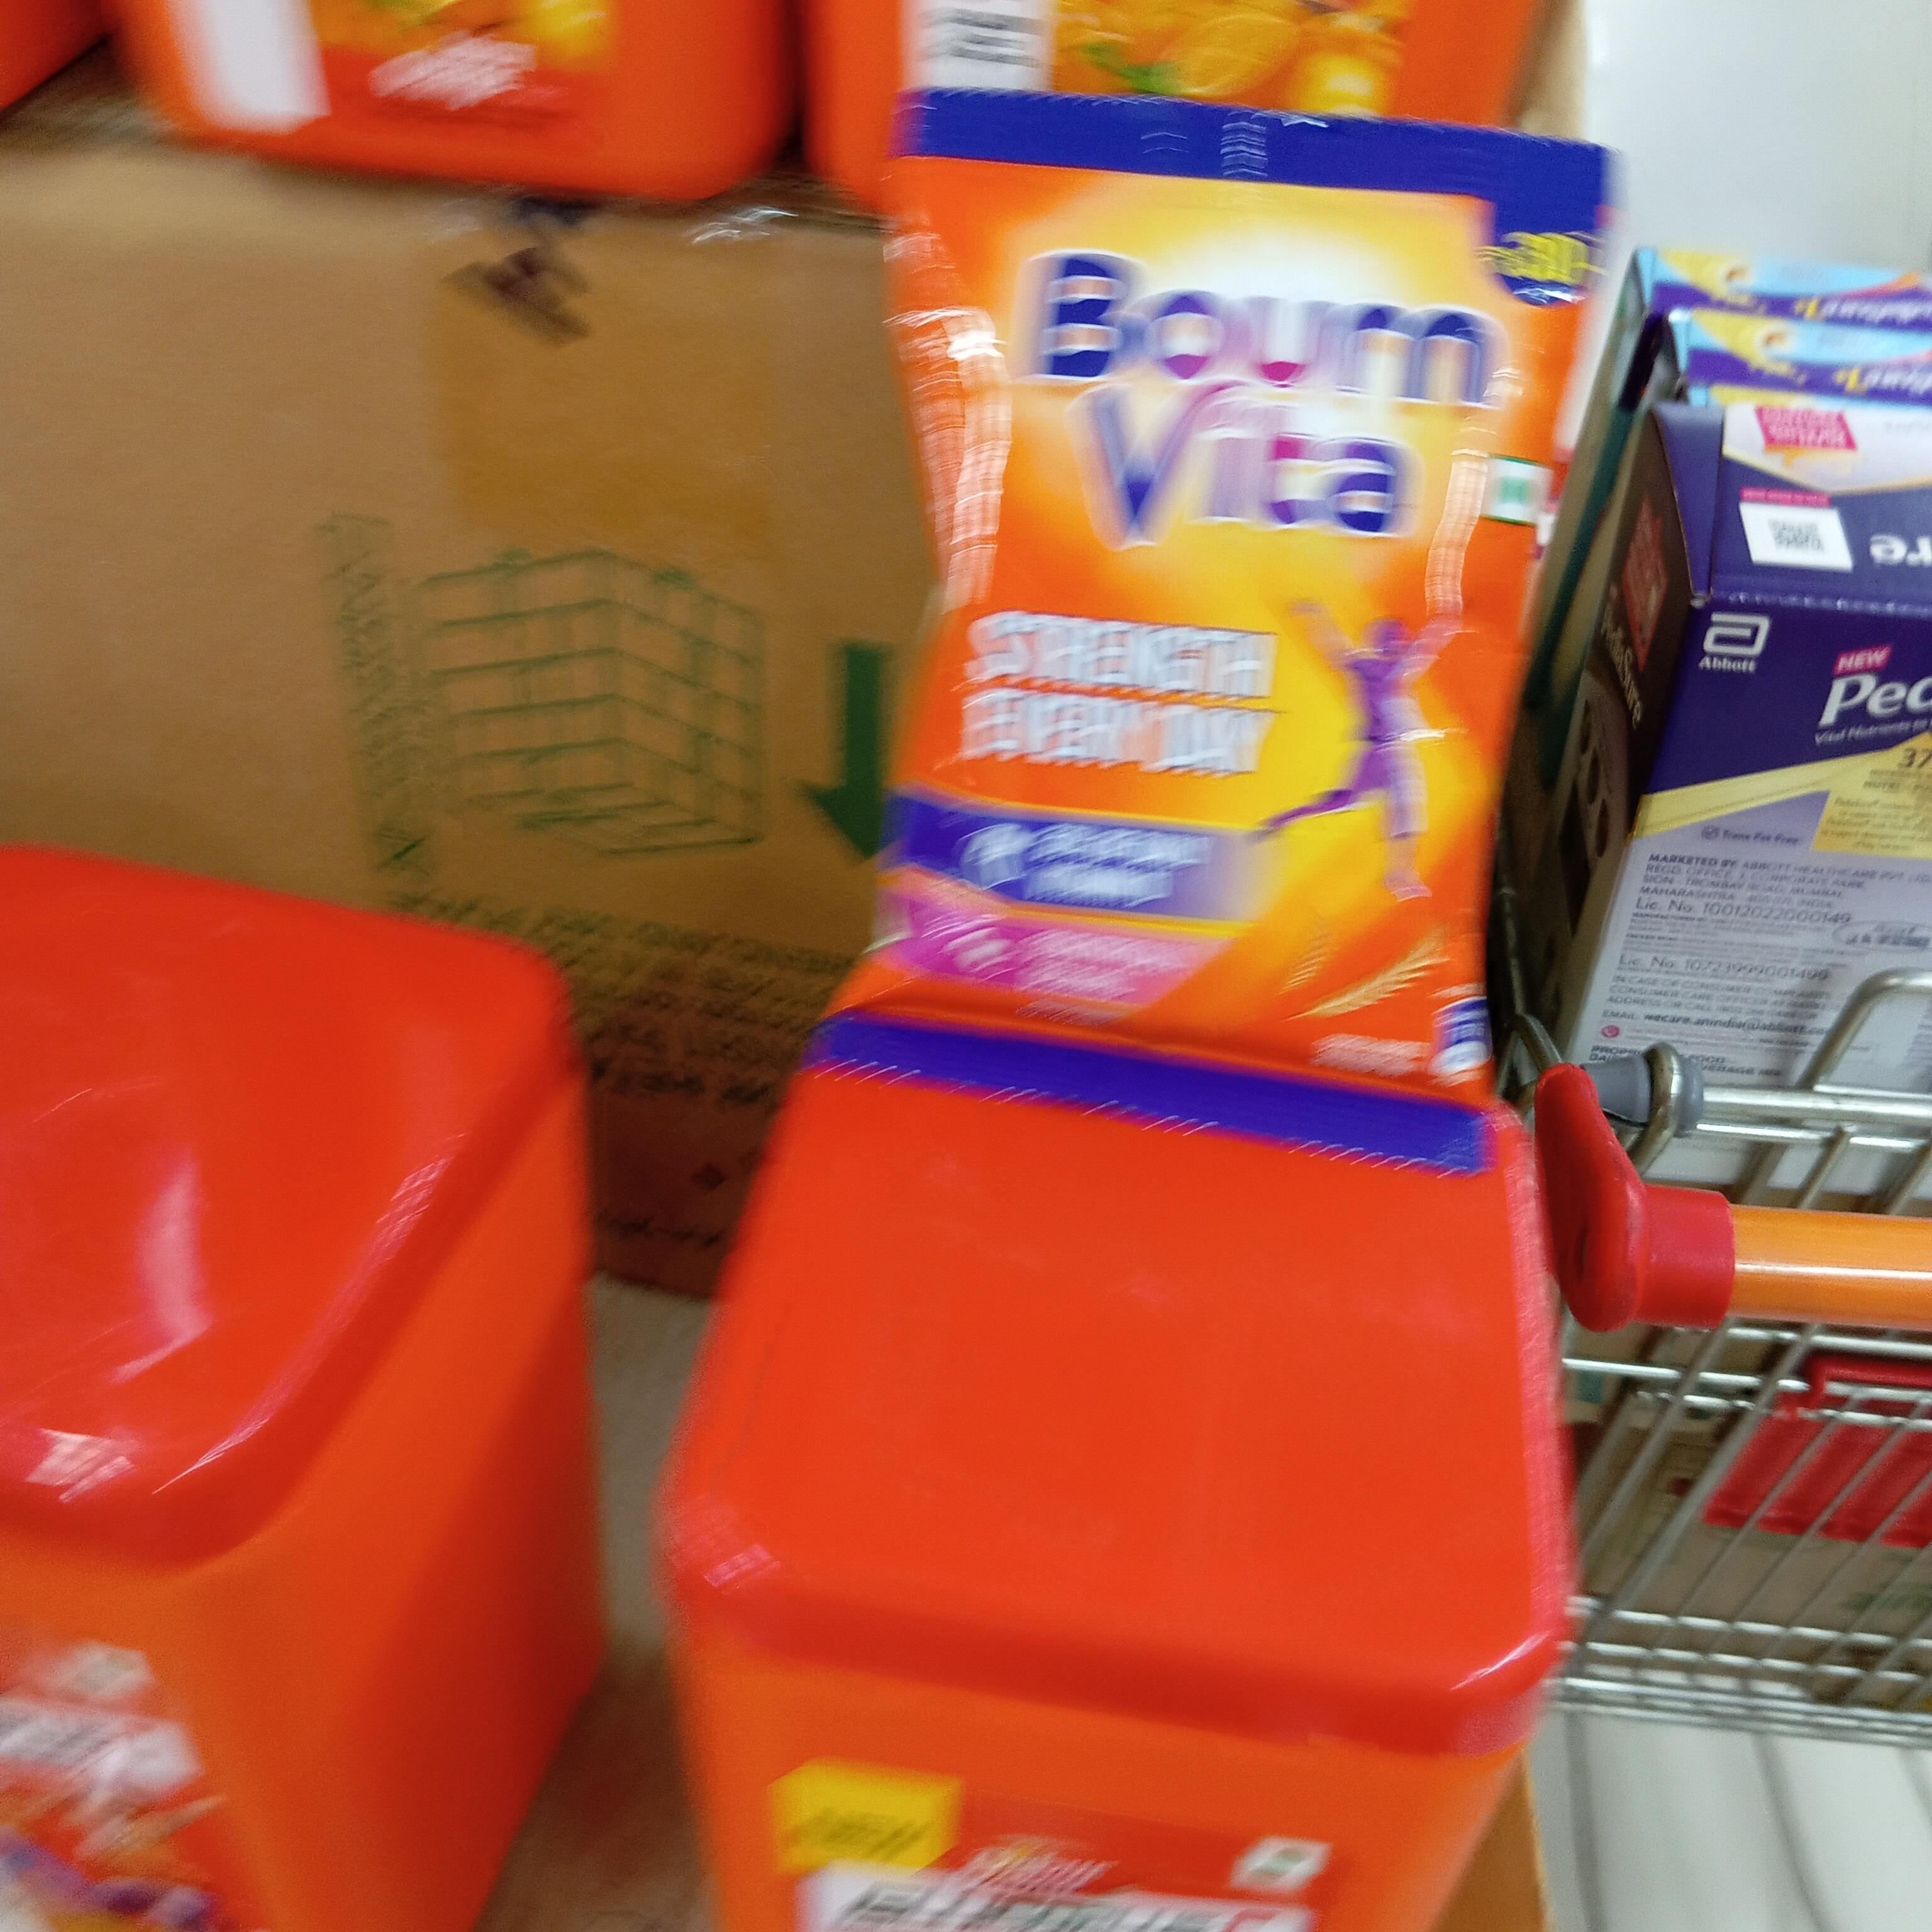BOURN_VITA_75_G_POUCH: (915, 83, 1493, 1134)
